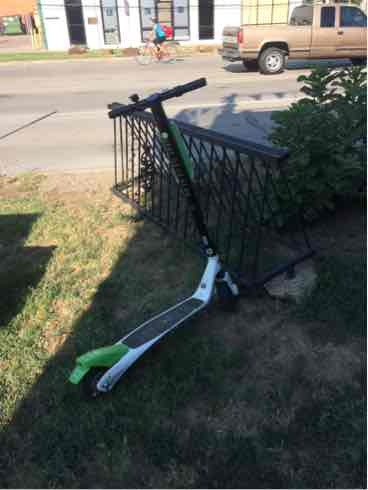scooter: (58, 72, 244, 393)
